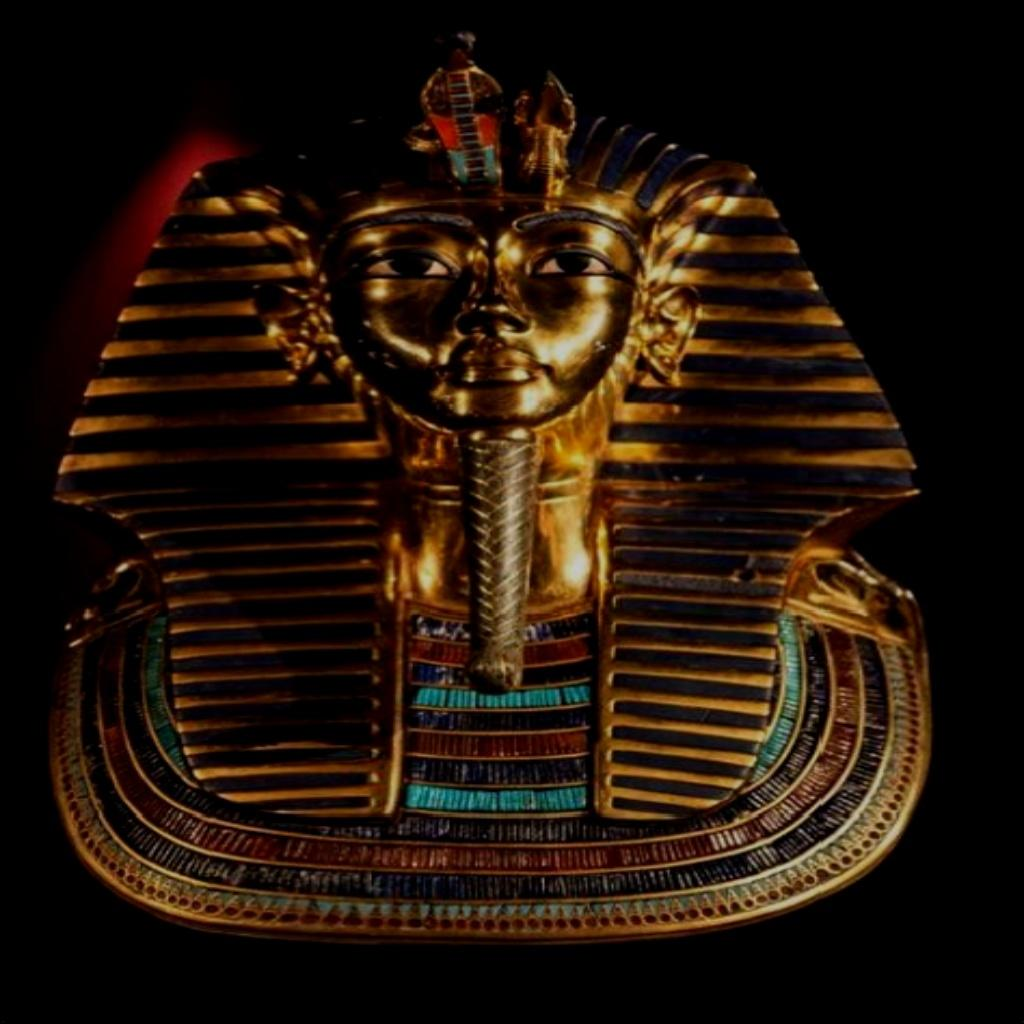Mask of Tutankhamun: (44, 28, 938, 949)
